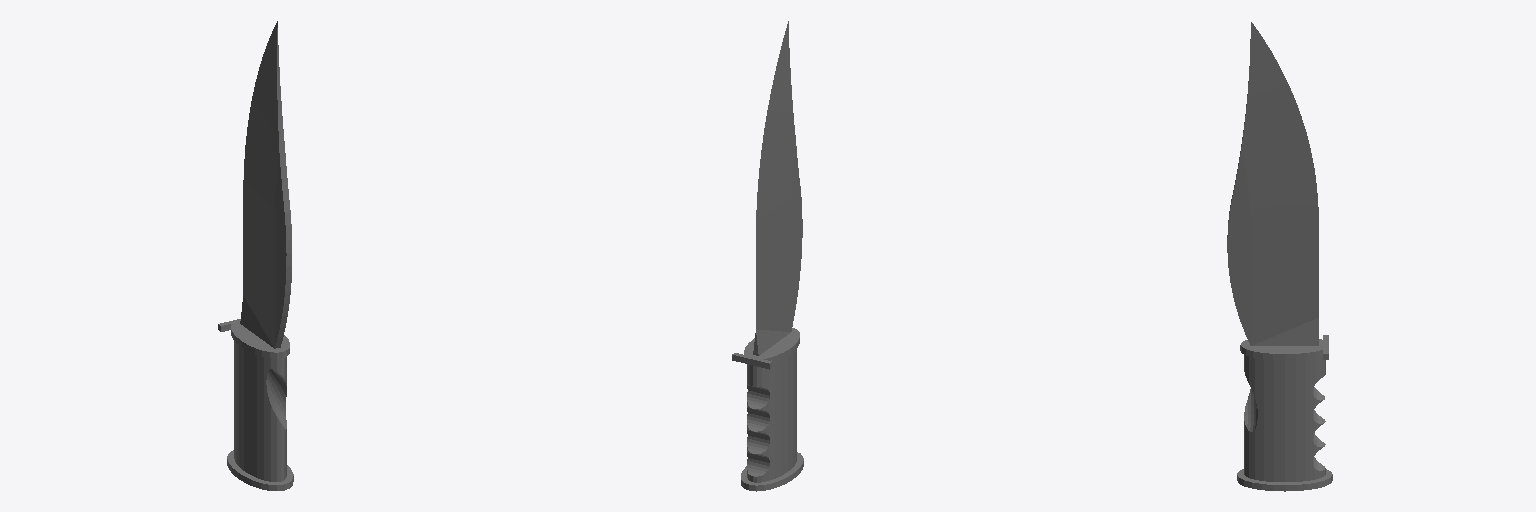
The robot description file, URDF, robot "object":
<?xml version="1.0"?>
<robot name="object">
  <link name="object">
    <visual>
      <origin xyz="0 0 0"/>
      <geometry>
        <mesh
          filename="../../mesh/oakink_virtual/knife_s143.stl" />
      </geometry>
      <material name="mat">
        <color rgba="0.5 0.5 0.5 1"/>
      </material>
    </visual>

    <collision>
      <origin xyz="0 0 0"/>
      <geometry>
        <mesh
          filename="../../mesh/oakink_virtual/knife_s143.stl" />
      </geometry>
    </collision>
  </link>
</robot>

--- What the picture shows (computed from the rendered views, not written in the file) ---
3 views of the same robot in one strip: view 1: azimuth 30°, elevation 25°; view 2: azimuth 150°, elevation 25°; view 3: azimuth 270°, elevation 25° (orthographic).
Robot: object — 1 links, 0 joints (none); root link object; default pose: every joint at zero.
Links seen in each view (by area): view 1: object; view 2: object; view 3: object.
Link boxes in pixels (x1,y1,x2,y2): object: (218,21,293,490); object: (732,21,803,491); object: (1227,22,1332,491).
Size in the robot's own frame: 0.0242 by 0.0493 by 0.2376 metres.
1 mesh visuals loaded from 1 distinct referenced files (1 binary STL).
